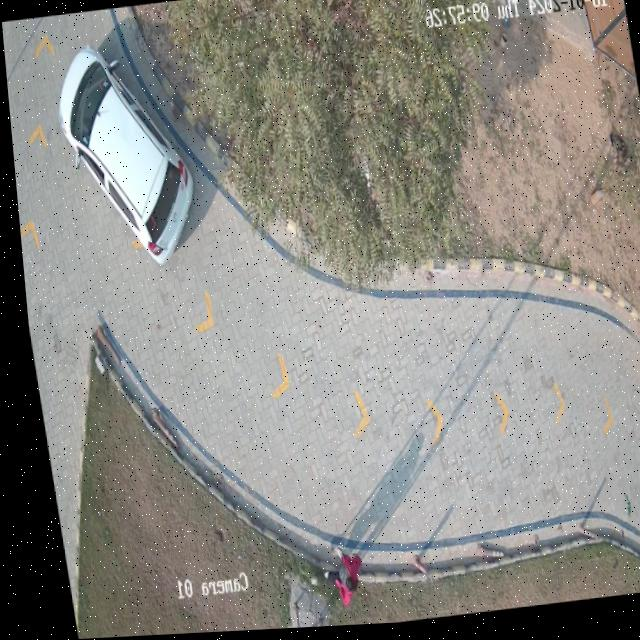car: (55, 48, 190, 264)
